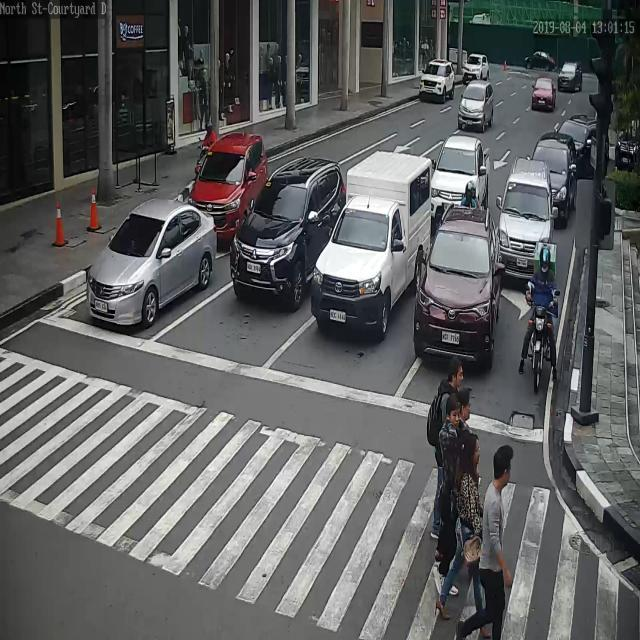car: (230, 158, 347, 311), (88, 201, 218, 331), (414, 203, 499, 365), (186, 131, 270, 245), (495, 159, 556, 278), (530, 130, 578, 231), (428, 135, 490, 211), (558, 113, 610, 175), (456, 83, 494, 133), (419, 60, 456, 104), (614, 117, 640, 170), (532, 75, 559, 112), (558, 62, 584, 93), (464, 52, 488, 81)
jeepney: (524, 238, 562, 394), (193, 120, 218, 183), (454, 179, 486, 216)
van: (309, 150, 433, 341)
